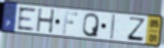E: (17, 7, 37, 32)
F: (61, 10, 79, 35)
H: (35, 8, 56, 34)
I: (110, 14, 117, 41)
Q: (81, 12, 100, 38)
Z: (126, 16, 147, 43)
